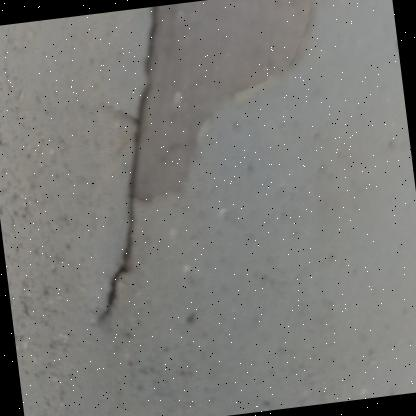Crack: (29, 0, 395, 346)
